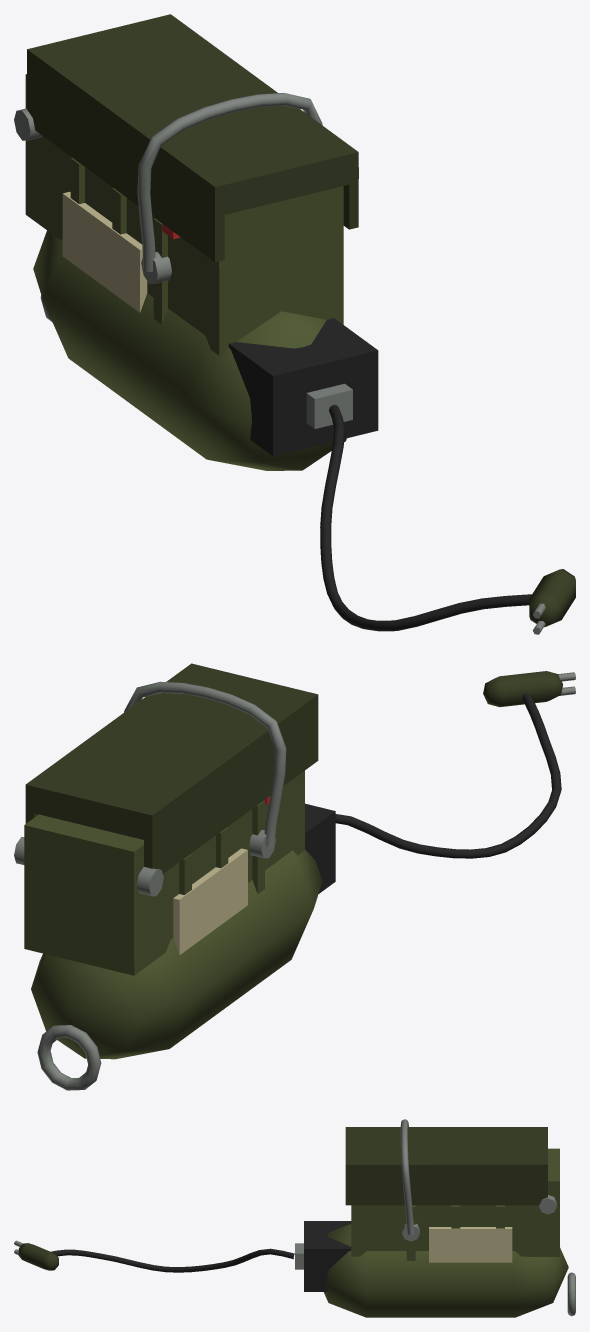
Rendered from claymore-clicker.glb.
3 views of the same model, one above another, from view 1: azimuth 30°, elevation 25°; view 2: azimuth 150°, elevation 25°; view 3: azimuth 270°, elevation 25° (orthographic). The views are drawn at different scales.
Parts seen in each view (by area): view 1: Mesh_LeverTop, Mesh_BaseHousing, Mesh_UpperHousing, Mesh_TerminalBlock, Mesh_LeverSkirtR, Mesh_LabelR, Mesh_WirePigtail, Mesh_SafetyBail, Mesh_PlugBody, Mesh_TerminalMetal, Mesh_RibR_0.015, Mesh_LeverSkirtL; view 2: Mesh_LeverTop, Mesh_BaseHousing, Mesh_UpperHousing, Mesh_LeverSkirtR, Mesh_LabelR, Mesh_WirePigtail, Mesh_SafetyBail, Mesh_LanyardRing, Mesh_PlugBody, Mesh_TerminalBlock, Mesh_HingePin, Mesh_RibR_0.015; view 3: Mesh_BaseHousing, Mesh_LeverTop, Mesh_UpperHousing, Mesh_LeverSkirtL, Mesh_LabelL, Mesh_TerminalBlock, Mesh_WirePigtail, Mesh_SafetyBail, Mesh_PlugBody, Mesh_LanyardRing, Mesh_RibL_0.015.
Boxes of the visible parts, <box> form: Mesh_LeverTop: <box>27,14,358,214</box>; Mesh_BaseHousing: <box>33,230,346,470</box>; Mesh_UpperHousing: <box>25,74,343,355</box>; Mesh_TerminalBlock: <box>228,318,378,456</box>; Mesh_LeverSkirtR: <box>27,64,224,262</box>; Mesh_LabelR: <box>62,191,147,312</box>; Mesh_WirePigtail: <box>320,404,531,631</box>; Mesh_SafetyBail: <box>137,93,322,271</box>; Mesh_PlugBody: <box>529,569,575,627</box>; Mesh_TerminalMetal: <box>306,383,352,428</box>; Mesh_RibR_0.015: <box>153,218,167,324</box>; Mesh_LeverSkirtL: <box>343,167,358,229</box>; Mesh_LeverTop: <box>25,663,318,841</box>; Mesh_BaseHousing: <box>31,849,322,1059</box>; Mesh_UpperHousing: <box>24,770,304,975</box>; Mesh_LeverSkirtR: <box>144,708,318,873</box>; Mesh_LabelR: <box>173,848,247,955</box>; Mesh_WirePigtail: <box>335,693,561,858</box>; Mesh_SafetyBail: <box>124,681,286,847</box>; Mesh_LanyardRing: <box>37,1025,101,1090</box>; Mesh_PlugBody: <box>483,671,562,707</box>; Mesh_TerminalBlock: <box>305,803,335,893</box>; Mesh_HingePin: <box>14,836,163,896</box>; Mesh_RibR_0.015: <box>252,800,264,893</box>; Mesh_BaseHousing: <box>324,1223,568,1317</box>; Mesh_LeverTop: <box>345,1127,547,1180</box>; Mesh_UpperHousing: <box>351,1148,559,1256</box>; Mesh_LeverSkirtL: <box>345,1172,547,1205</box>; Mesh_LabelL: <box>429,1227,512,1262</box>; Mesh_TerminalBlock: <box>304,1221,351,1291</box>; Mesh_WirePigtail: <box>51,1248,294,1272</box>; Mesh_SafetyBail: <box>400,1119,414,1234</box>; Mesh_PlugBody: <box>18,1243,58,1270</box>; Mesh_LanyardRing: <box>567,1272,575,1316</box>; Mesh_RibL_0.015: <box>406,1205,415,1260</box>.
Size of the model in its own units: 0.046 by 0.069 by 0.1887.
